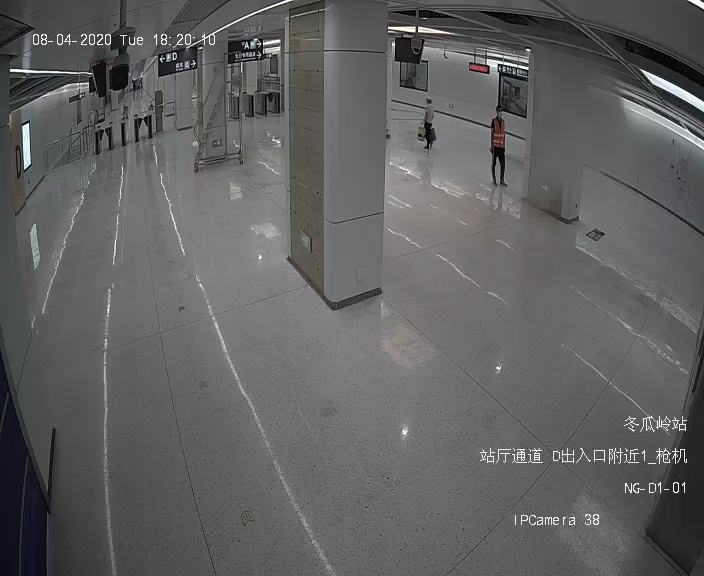smoke: (535, 55, 628, 181)
